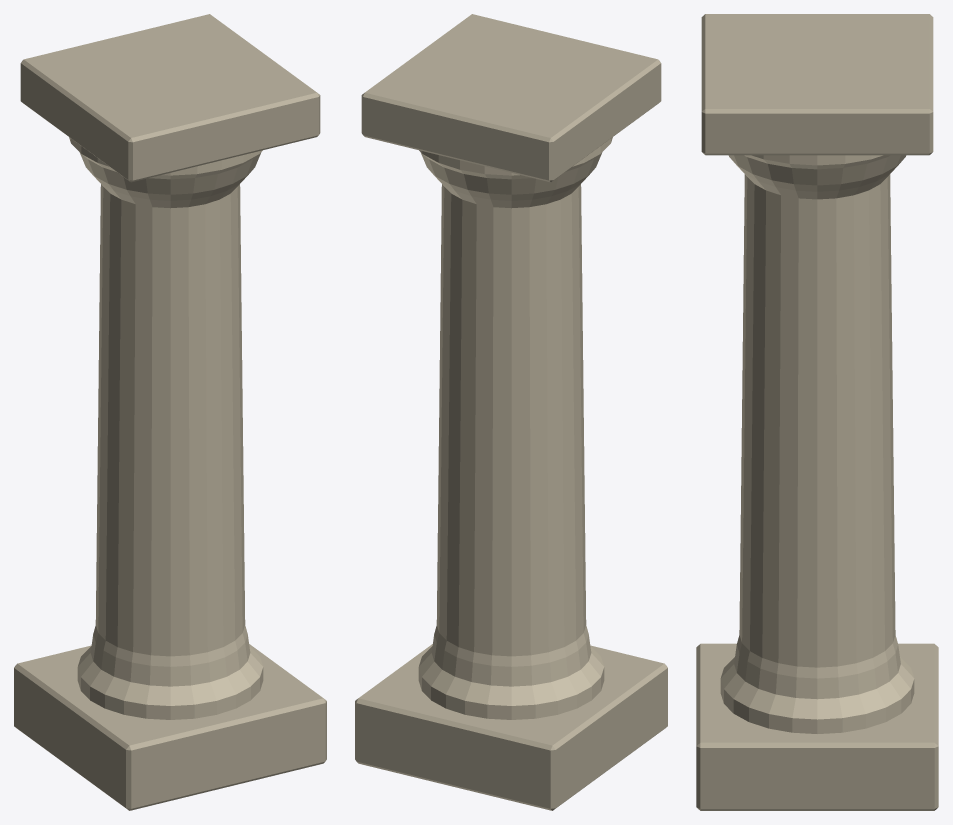
File: S011_foam_column_rebuilt.glb
3 views of the same model, side by side, from view 1: azimuth 30°, elevation 25°; view 2: azimuth 150°, elevation 25°; view 3: azimuth 270°, elevation 25° (orthographic). The views are drawn at different scales.
Parts seen in each view (by area): view 1: Cut_stone_alternate_wash, Limestone_painted_foam; view 2: Cut_stone_alternate_wash, Limestone_painted_foam; view 3: Cut_stone_alternate_wash, Limestone_painted_foam.
Boxes of the visible parts, left/top/right/bottom form: Cut_stone_alternate_wash: left=69, top=137, right=263, bottom=719; Limestone_painted_foam: left=14, top=14, right=326, bottom=810; Cut_stone_alternate_wash: left=418, top=137, right=612, bottom=719; Limestone_painted_foam: left=355, top=14, right=667, bottom=810; Cut_stone_alternate_wash: left=720, top=155, right=914, bottom=733; Limestone_painted_foam: left=696, top=14, right=938, bottom=810.
Size of the model in its own units: 0.9 by 2.87 by 0.9.
